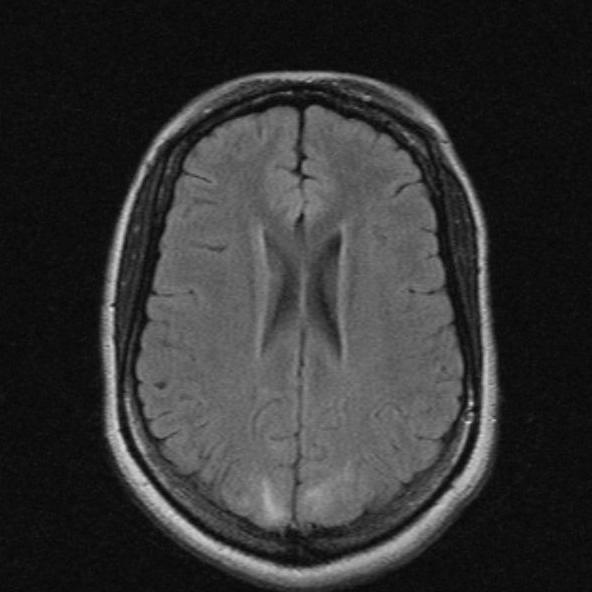Normal_Brain: (24, 6, 592, 592)
